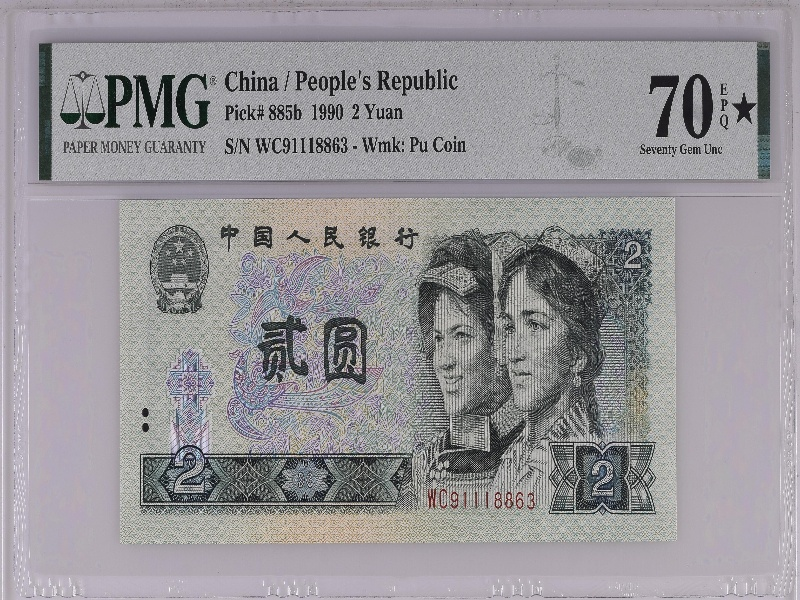papernote: (117, 196, 681, 542)
